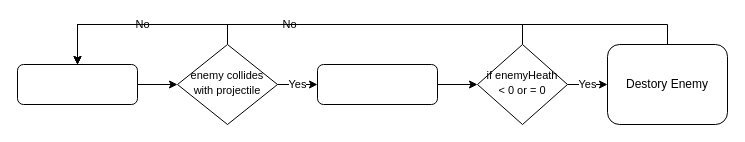
Some shapes in this 745 by 142 pixel diagram are drawn without their labels. Here are the shapes that lost their labels. From the top down, the centre of each, then its label:
At (77,84): "Game is Running".
At (377,84): "enemy Health = enemy Health - damage".
